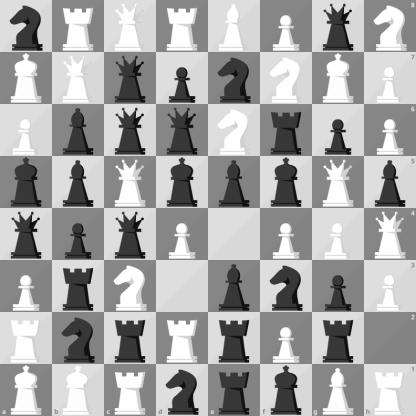B: (312, 364, 364, 416), (209, 1, 260, 52)
K: (0, 364, 52, 416), (52, 364, 104, 416), (1, 53, 52, 104), (313, 53, 364, 104)
N: (364, 0, 416, 52), (105, 261, 156, 312), (209, 105, 260, 156), (261, 53, 312, 104)
P: (364, 52, 416, 104), (364, 104, 416, 156), (364, 260, 416, 312), (1, 105, 52, 156), (1, 261, 52, 312), (157, 209, 208, 260), (261, 1, 312, 52), (261, 209, 312, 260), (261, 313, 312, 364), (313, 209, 364, 260)
Q: (364, 209, 416, 260), (53, 53, 104, 104), (105, 1, 156, 52), (105, 157, 156, 208), (313, 157, 364, 208)
R: (104, 364, 156, 416), (364, 364, 416, 416), (1, 313, 52, 364), (53, 1, 104, 52), (157, 1, 208, 52), (157, 313, 208, 364)
b: (364, 156, 416, 209), (53, 105, 104, 156), (53, 157, 104, 208), (209, 157, 260, 208), (209, 261, 260, 312)
board: (0, 0, 415, 415)
k: (260, 364, 312, 416), (1, 157, 52, 208), (157, 157, 208, 208), (261, 157, 312, 208)
n: (156, 364, 209, 416), (1, 1, 52, 52), (53, 313, 104, 364), (209, 53, 260, 104), (261, 261, 312, 312)
p: (53, 209, 104, 260), (157, 53, 208, 104), (313, 105, 364, 156), (313, 261, 364, 312)
q: (1, 209, 52, 260), (105, 53, 156, 104), (105, 105, 156, 156), (105, 209, 156, 260), (157, 105, 208, 156), (313, 1, 364, 52)
r: (209, 364, 260, 416), (53, 261, 104, 312), (105, 313, 156, 364), (209, 313, 260, 364), (261, 105, 312, 156), (313, 313, 364, 364)
